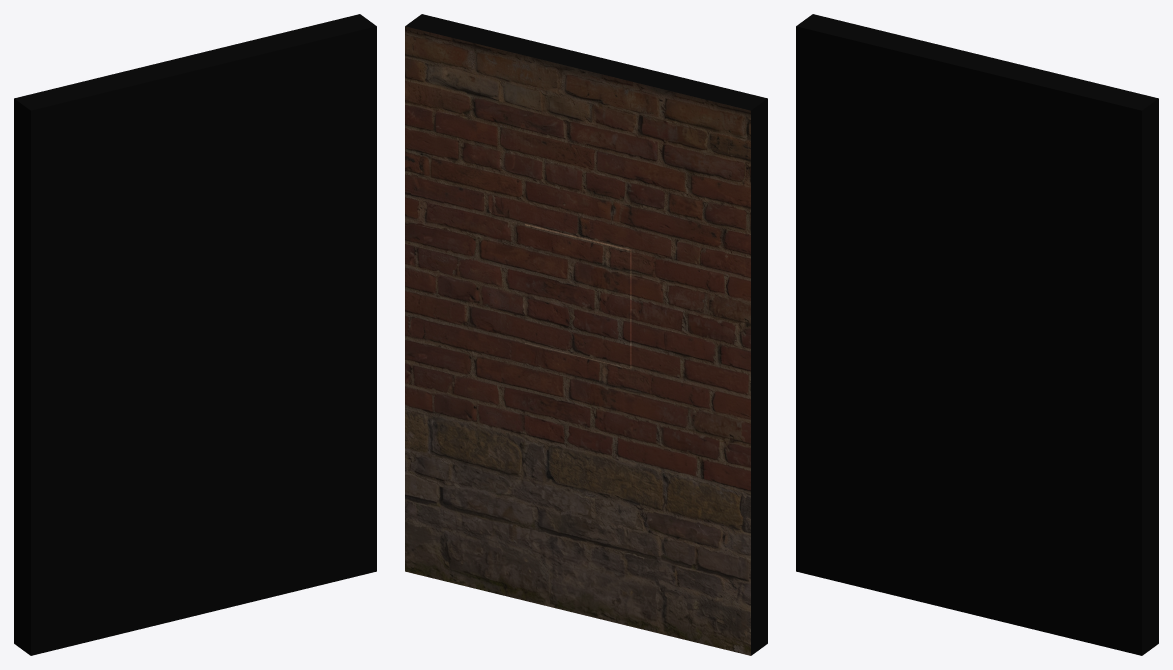
File: Brick_Wall_Secret.fbx
3 views of the same model, side by side, from view 1: azimuth 30°, elevation 25°; view 2: azimuth 150°, elevation 25°; view 3: azimuth 330°, elevation 25° (orthographic).
Visible parts, largest first — view 1: Cube.197; view 2: Cube.197, Cube.200; view 3: Cube.197.
Boxes of the visible parts, <box> form: Cube.197: <box>14,14,376,655</box>; Cube.197: <box>405,14,767,655</box>; Cube.200: <box>524,224,631,369</box>; Cube.197: <box>796,14,1158,655</box>.
Size of the model in its own units: 0.1725 by 2 by 3.01.
Materials: 2 (1 with a texture image).
